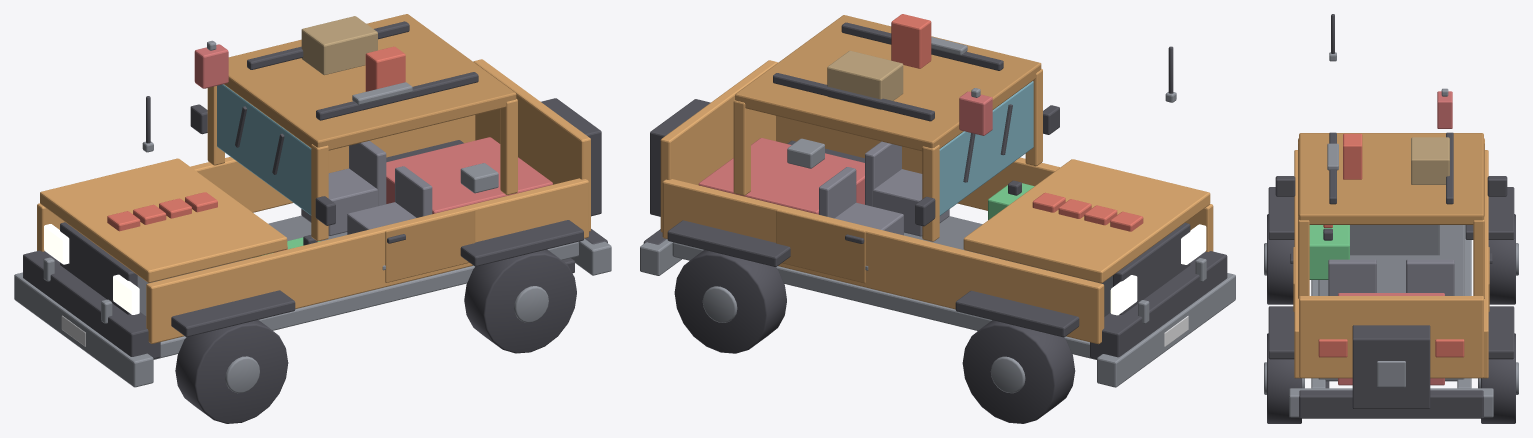
The model's file is автомобиль.glb.
3 views of the same model, side by side, from view 1: azimuth 30°, elevation 25°; view 2: azimuth 150°, elevation 25°; view 3: azimuth 270°, elevation 25° (orthographic). The views are drawn at different scales.
Parts seen in each view (by area): view 1: PartCabin_Mesh, PartWheels_Mesh, автомобиль, PartTank_Mesh, PartEngine_Mesh; view 2: PartCabin_Mesh, PartWheels_Mesh, автомобиль, PartTank_Mesh, PartEngine_Mesh, PartBattery_Mesh; view 3: PartCabin_Mesh, PartWheels_Mesh, автомобиль, PartEngine_Mesh, PartBattery_Mesh, PartTank_Mesh.
Part boxes in pixels (x1,y1,x2,y2): PartCabin_Mesh: [14, 14, 611, 387]; PartWheels_Mesh: [171, 140, 583, 423]; автомобиль: [43, 40, 607, 359]; PartTank_Mesh: [386, 137, 552, 213]; PartEngine_Mesh: [60, 192, 250, 315]; PartCabin_Mesh: [640, 14, 1235, 387]; PartWheels_Mesh: [667, 140, 1079, 423]; автомобиль: [643, 37, 1206, 359]; PartTank_Mesh: [698, 138, 864, 214]; PartEngine_Mesh: [1001, 192, 1190, 316]; PartBattery_Mesh: [988, 180, 1034, 219]; PartCabin_Mesh: [1275, 132, 1507, 417]; PartWheels_Mesh: [1264, 187, 1518, 423]; автомобиль: [1299, 14, 1483, 418]; PartEngine_Mesh: [1350, 225, 1439, 255]; PartBattery_Mesh: [1309, 225, 1349, 279]; PartTank_Mesh: [1338, 293, 1444, 385].
Bounding box in the file's own units: 5.1 × 2.99 × 2.62.
